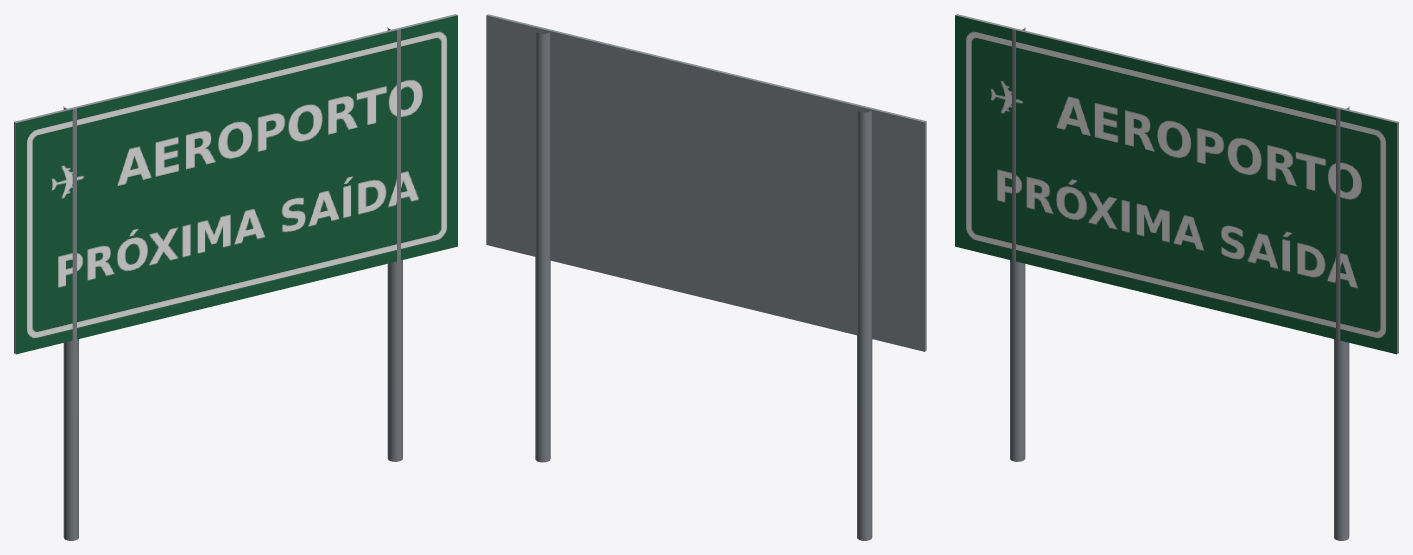
File: placa-rodovia-aeroporto.glb
3 views of the same model, side by side, from view 1: azimuth 30°, elevation 25°; view 2: azimuth 150°, elevation 25°; view 3: azimuth 330°, elevation 25° (orthographic).
Parts seen in each view (by area): view 1: Letreiro, Poste; view 2: Poste; view 3: Letreiro, Poste.
Boxes of the visible parts, <box> form: Letreiro: <box>16,15,457,354</box>; Poste: <box>14,14,457,540</box>; Poste: <box>486,14,926,540</box>; Letreiro: <box>955,15,1396,354</box>; Poste: <box>955,14,1398,540</box>.
Size of the model in its own units: 6 by 5.6 by 0.1712.
3 materials, 1 textured.
